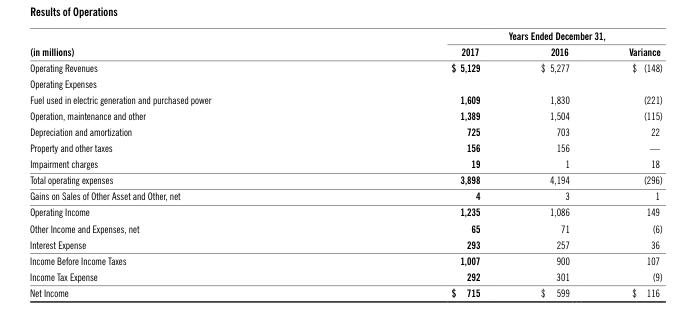table: (29, 28, 661, 298)
table column: (29, 28, 330, 298), (330, 28, 509, 298), (509, 28, 598, 298), (598, 28, 661, 298)
table column header: (29, 28, 661, 58)
table projected row header: (29, 75, 661, 91)
table row: (29, 58, 661, 75), (29, 42, 661, 58), (29, 75, 661, 91), (29, 91, 661, 107), (29, 107, 661, 123), (29, 123, 661, 139), (29, 139, 661, 155), (29, 155, 661, 171), (29, 171, 661, 187), (29, 187, 661, 203), (29, 203, 661, 219), (29, 219, 661, 235), (29, 235, 661, 251), (29, 251, 661, 267), (29, 267, 661, 283), (29, 283, 661, 298), (29, 28, 661, 42)
table spanning cell: (29, 28, 330, 58), (330, 28, 661, 42)
